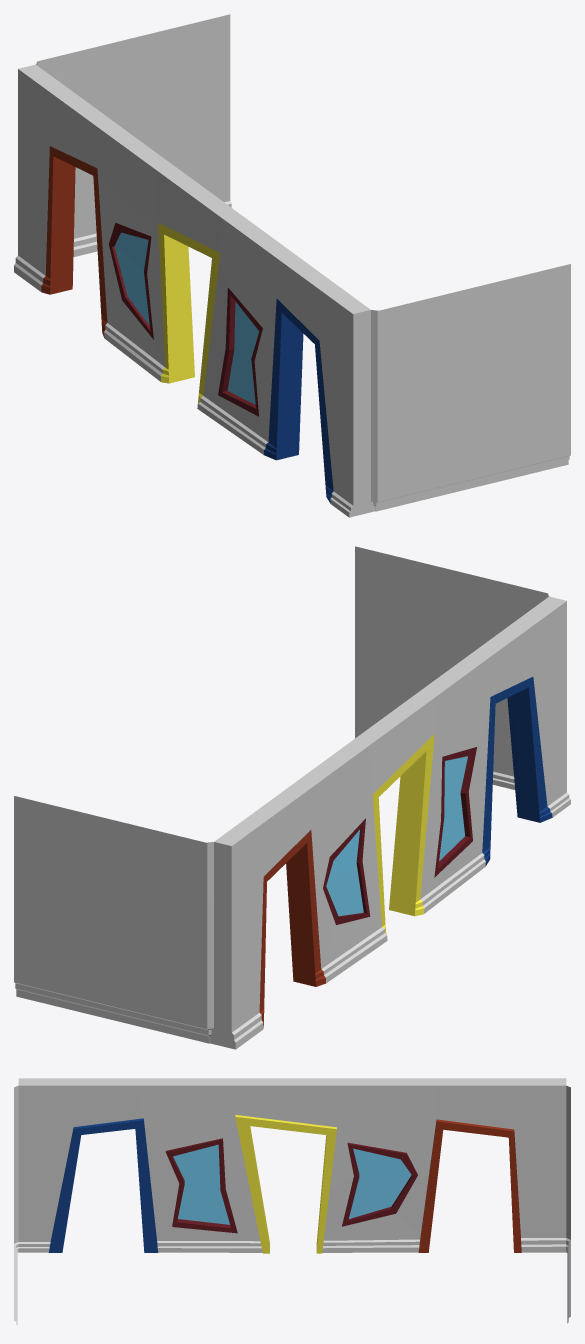
File: Mur_V4.fbx
The picture shows the model from 3 angles, top to bottom: view 1: azimuth 30°, elevation 25°; view 2: azimuth 150°, elevation 25°; view 3: azimuth 270°, elevation 25°; orthographic projection. The views are drawn at different scales.
Visible parts, largest first — view 1: Mur_Porte_V1, Mur.côté_V4; view 2: Mur_Porte_V1, Mur.côté_V4; view 3: Mur_Porte_V1, Mur.côté_V4.
Boxes of the visible parts, x1,y1,x2,y2 form: Mur_Porte_V1: (14, 62, 377, 517); Mur.côté_V4: (36, 14, 570, 511); Mur_Porte_V1: (207, 593, 570, 1049); Mur.côté_V4: (14, 546, 548, 1043); Mur_Porte_V1: (14, 1078, 570, 1253); Mur.côté_V4: (14, 1240, 570, 1324).
Bounding box in the file's own units: 572 × 500 × 1526.
